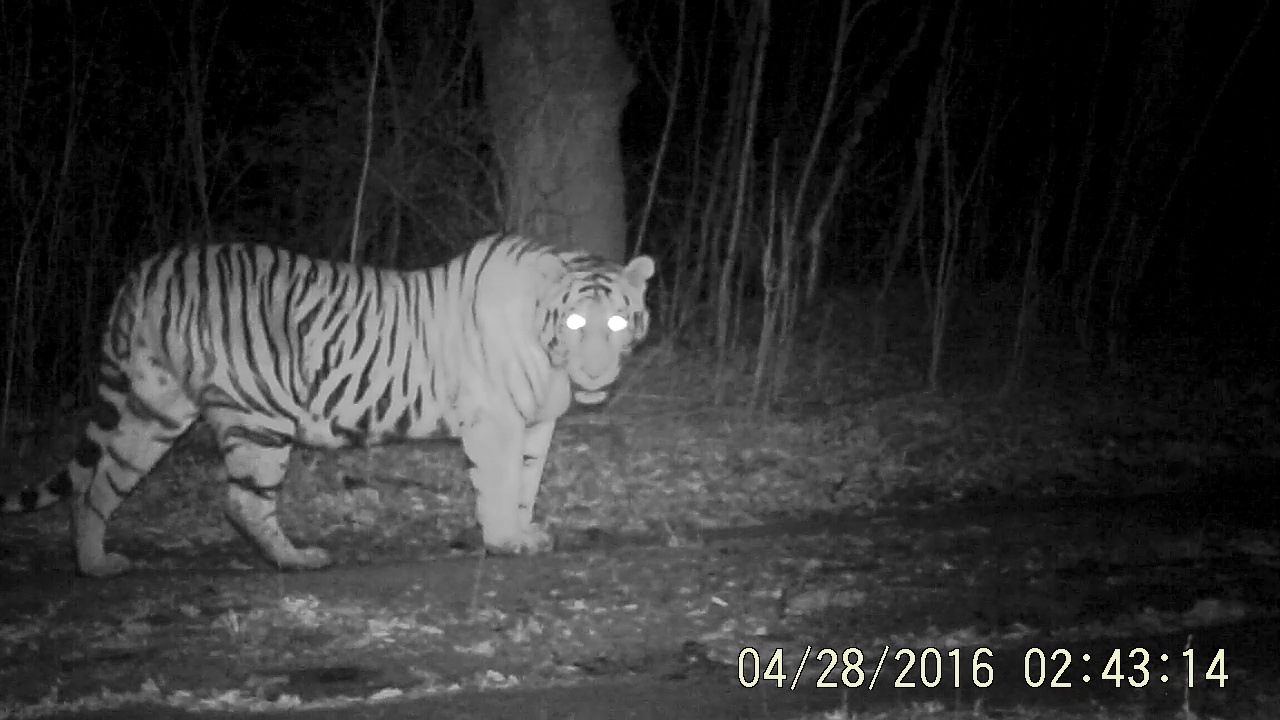Tiger: (9, 83, 715, 650)
